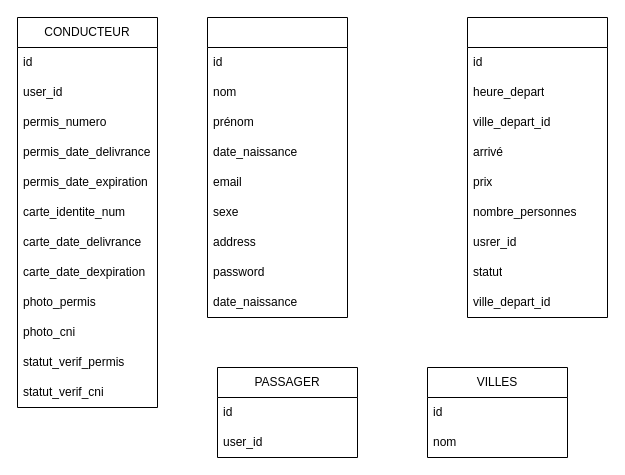
This 625x475 diagram has some shape labels left out. Each missing label, with the box of its shape:
TRAJET: (466, 16, 608, 318)
USER: (206, 16, 348, 318)
